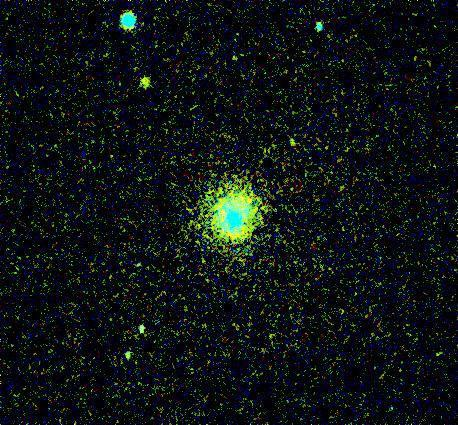star: (132, 68, 162, 98)
